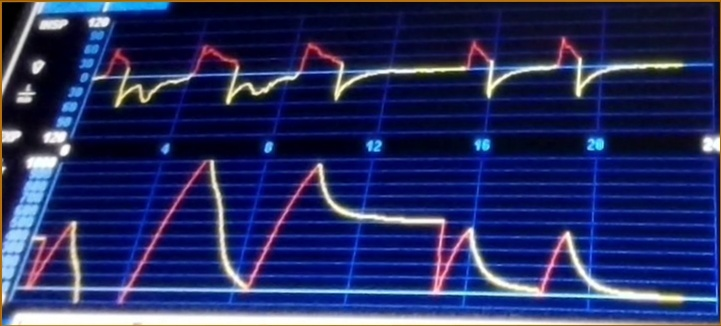Premature_cycling Flow: (105, 27, 656, 116)
Premature_cycling Volume: (31, 162, 680, 309)
